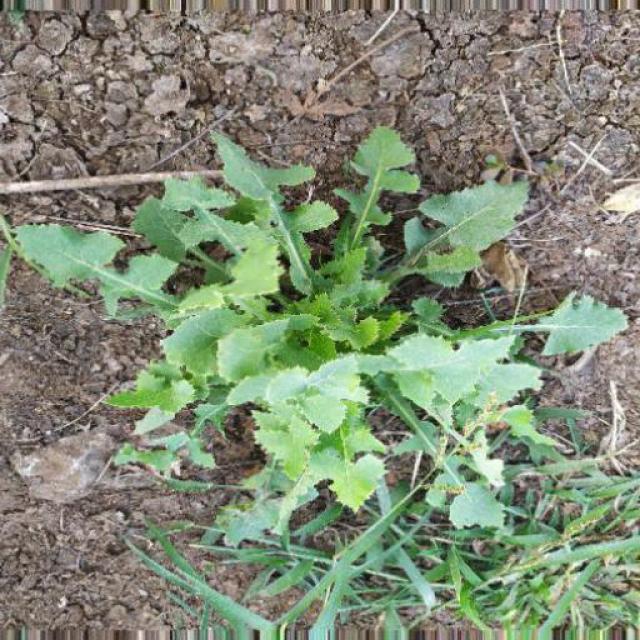weed: (39, 122, 610, 582)
